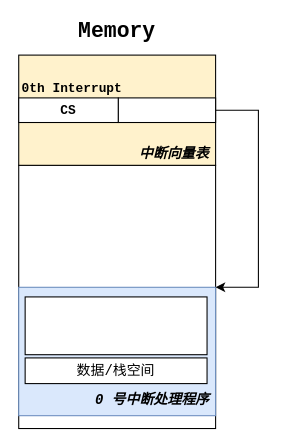
Some shapes in this 286 by 447 pixel diagram are drawn without their labels. Each missing label, with the box of its shape:
IP: (117, 97, 216, 123)
指令: (24, 296, 207, 355)
